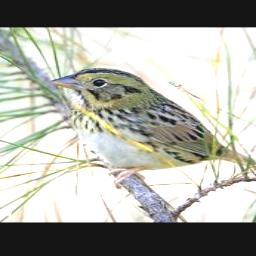Sparrow: (47, 66, 256, 188)
